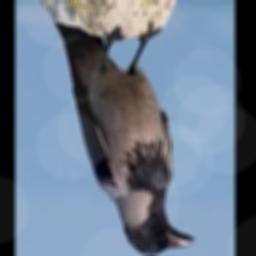Crow: (53, 19, 195, 256)
